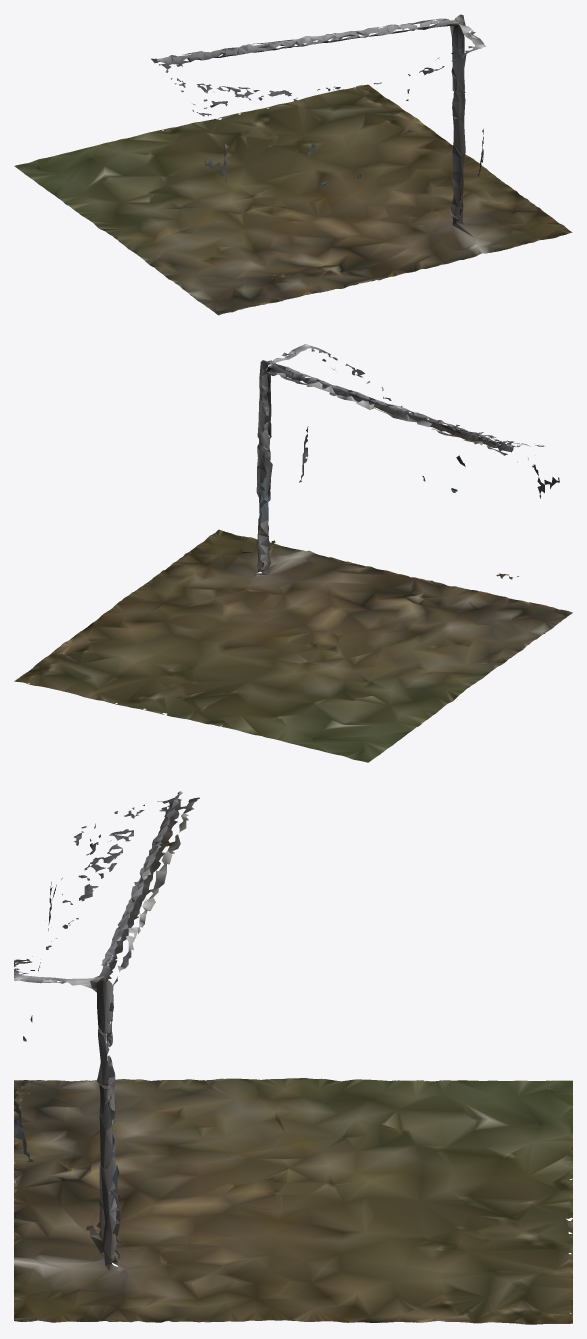
The model's file is coarse.glb.
3 views of the same model, one above another, from view 1: azimuth 30°, elevation 25°; view 2: azimuth 150°, elevation 25°; view 3: azimuth 270°, elevation 25° (orthographic). The views are drawn at different scales.
Bounding box in the file's own units: 3.6 × 2.12 × 3.6.
